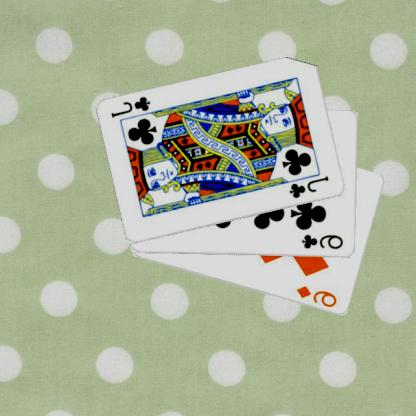9C: (300, 232, 346, 251)
9D: (296, 283, 340, 309)
JC: (110, 93, 154, 120), (289, 173, 332, 200)
